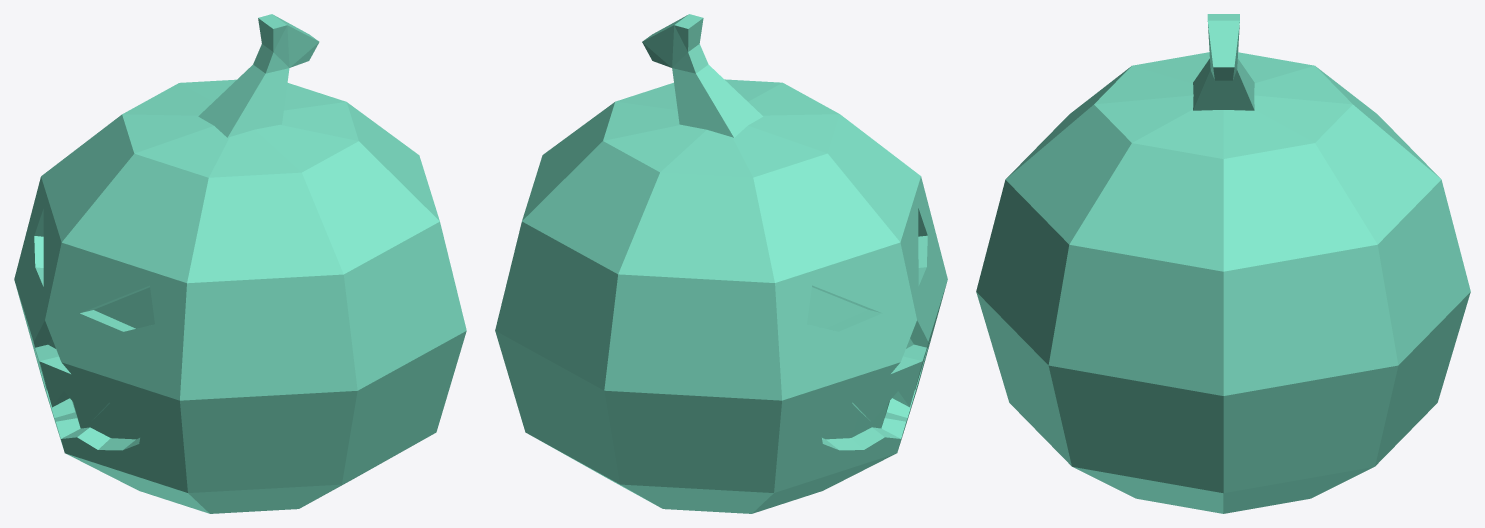
File: Ball_Pumpkin_New.fbx
3 views of the same model, side by side, from view 1: azimuth 30°, elevation 25°; view 2: azimuth 150°, elevation 25°; view 3: azimuth 270°, elevation 25° (orthographic). The views are drawn at different scales.
Visible parts, largest first — view 1: Sphere.001; view 2: Sphere.001; view 3: Sphere.001.
Part boxes in pixels (<box>): Sphere.001: <box>14,14,466,513</box>; Sphere.001: <box>495,14,947,513</box>; Sphere.001: <box>976,14,1470,513</box>.
Bounding box in the file's own units: 95.56 × 101 × 96.
